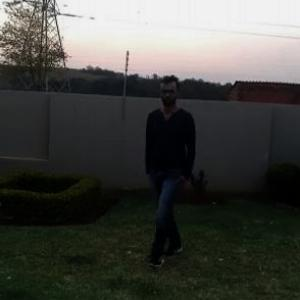follow: (143, 74, 204, 264)
